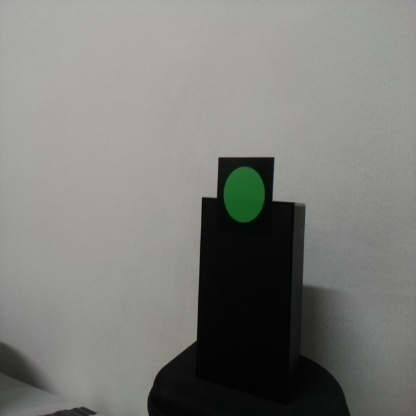id_5: (218, 157, 273, 237)
